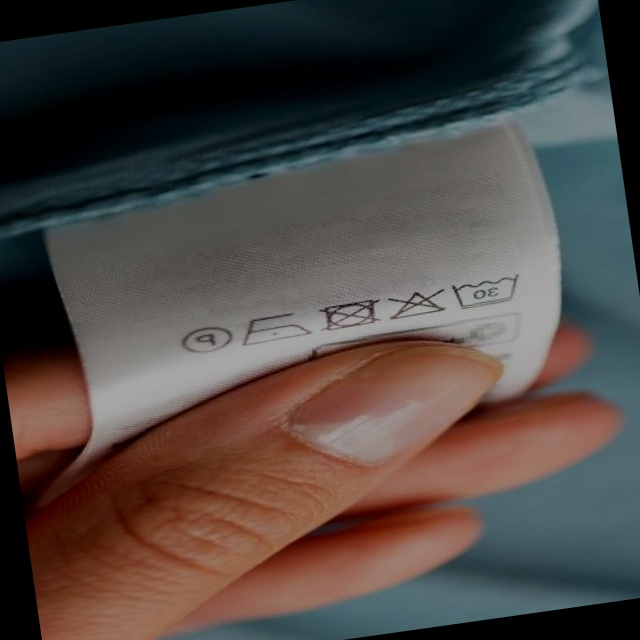30C: (447, 266, 522, 313)
DN_bleach: (381, 282, 448, 326)
DN_tumble_dry: (311, 292, 378, 335)
dry_clean_any_solvent_except_trichloroethylene: (175, 315, 238, 361)
iron_low: (238, 305, 310, 348)
